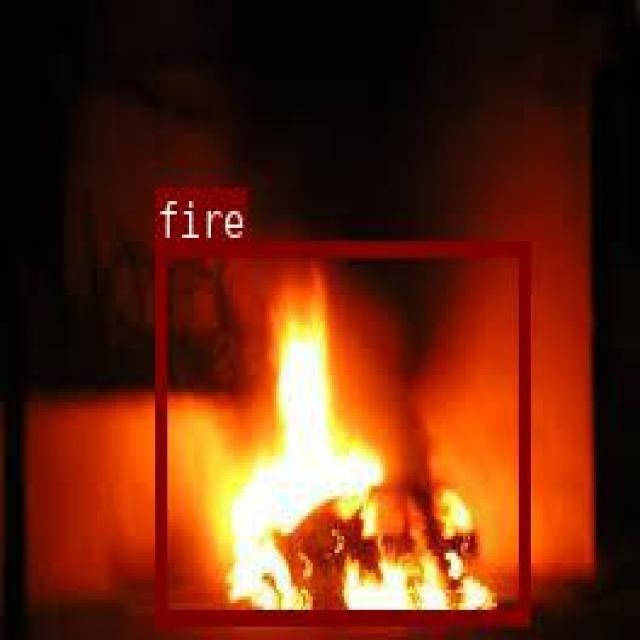fire: (155, 239, 529, 622)
